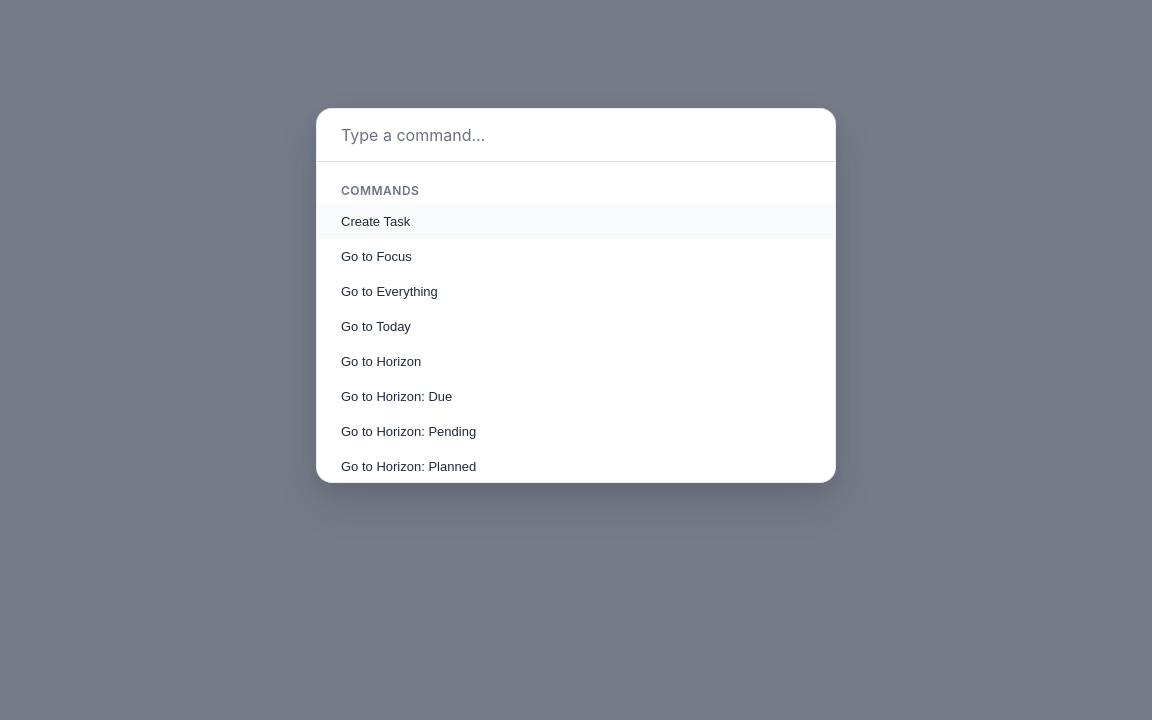
Test: CommandPalette › shows task matches when query matches todo titles
Step 1. Type "dentist" into the field with placeholder "Type a command…" → {"x": 576, "y": 136}, box 317,109 -> 835,162
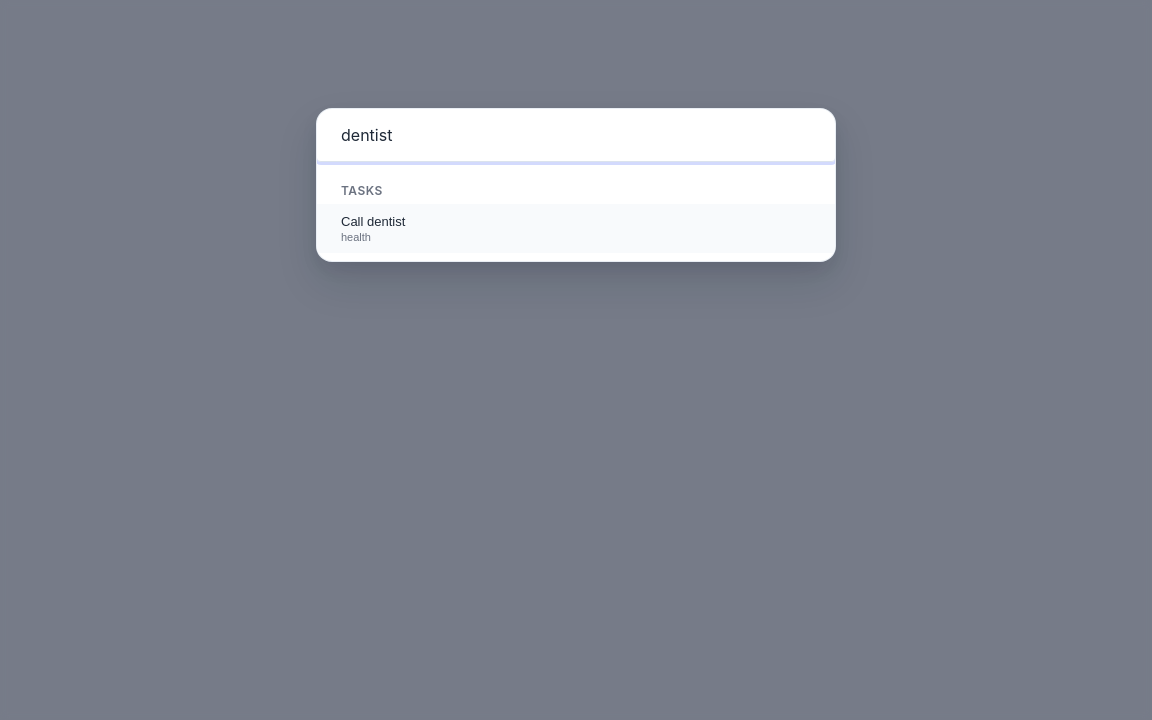
Result: the text "Call dentist" is shown at 341,214 -> 405,229
Result: the text "Tasks" is shown at 341,183 -> 383,198
